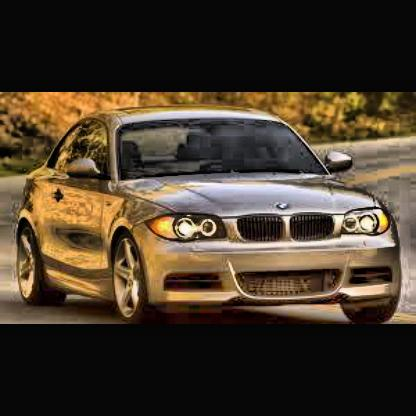BMW 1 Series Coupe 2012: (16, 108, 407, 325)
